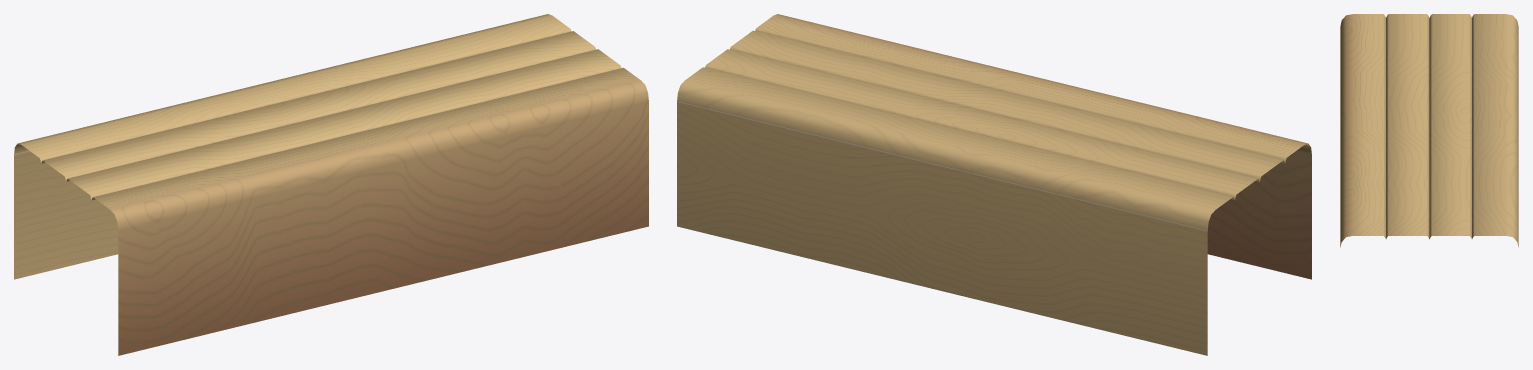
The model's file is desk_1.FBX.
3 views of the same model, side by side, from view 1: azimuth 30°, elevation 25°; view 2: azimuth 150°, elevation 25°; view 3: azimuth 270°, elevation 25° (orthographic). The views are drawn at different scales.
Parts seen in each view (by area): view 1: Plane004; view 2: Plane004; view 3: Plane004.
Boxes of the visible parts, x1,y1,x2,y2 form: Plane004: (14,14,648,355); Plane004: (677,14,1311,355); Plane004: (1340,14,1518,247).
Bounding box in the file's own units: 1557 × 393 × 530.
Materials: 1 (1 with a texture image).
